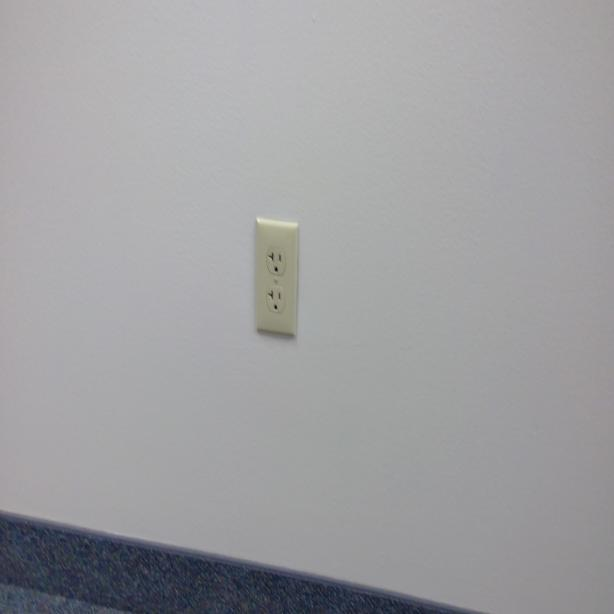typeb: (266, 246, 286, 278), (266, 288, 284, 316)
